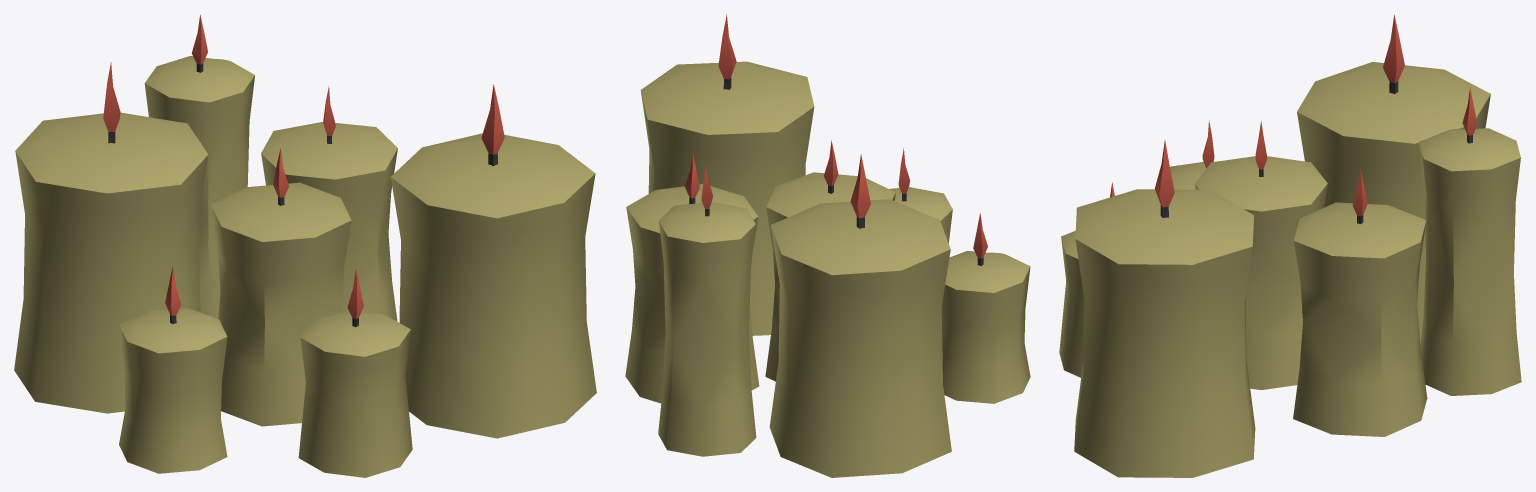
File: Candles_1.gltf
3 views of the same model, side by side, from view 1: azimuth 30°, elevation 25°; view 2: azimuth 150°, elevation 25°; view 3: azimuth 270°, elevation 25° (orthographic). The views are drawn at different scales.
Parts seen in each view (by area): view 1: Candles_1; view 2: Candles_1; view 3: Candles_1.
Part boxes in pixels (bbox=[...]): Candles_1: bbox=[14, 15, 596, 477]; Candles_1: bbox=[625, 14, 1030, 477]; Candles_1: bbox=[1059, 15, 1521, 477].
Size of the model in its own units: 0.881 by 0.6067 by 0.8436.
